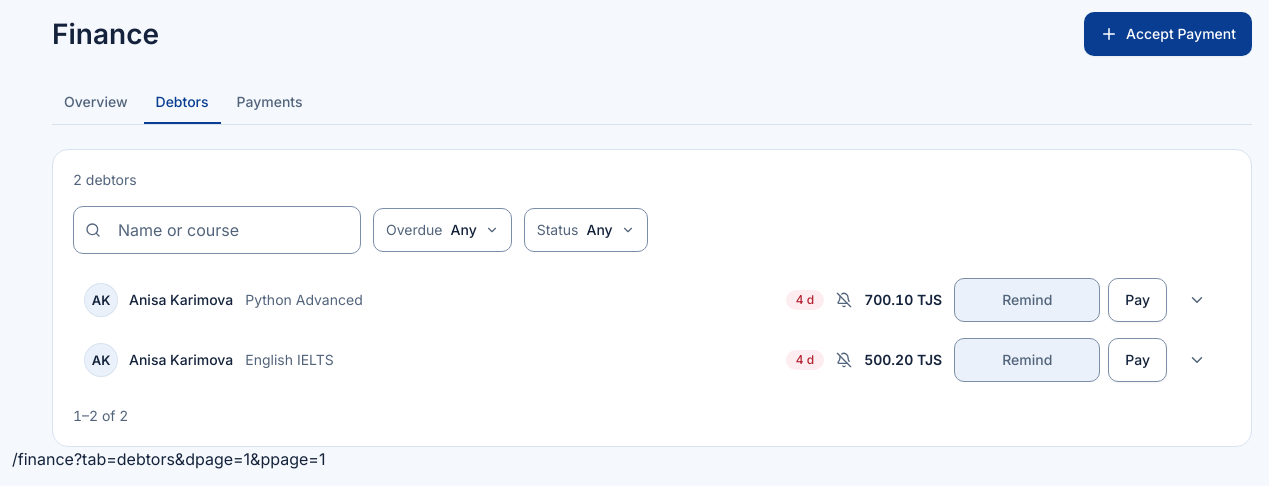
Test case: Finance navigation › changes tabs immediately, supports arrow keys and restores each tab's own page
The image size is (1269, 486).
Click the tab "Payments" at (270, 102), box [225, 80, 315, 124]
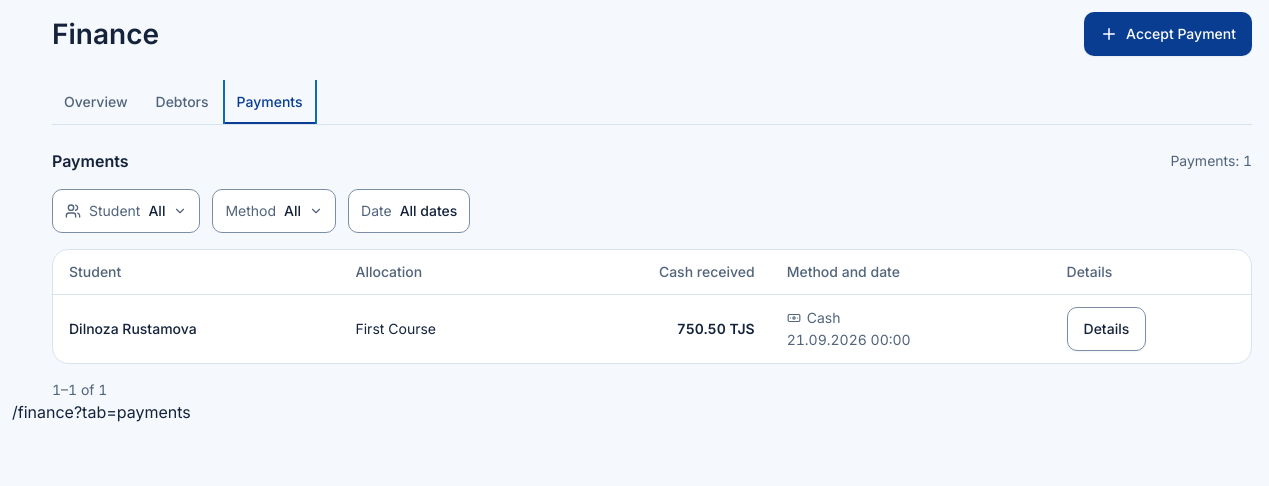
Result: the text with test id "location" reads "/finance?tab=payments" at [12, 402, 191, 422]
Press Arrowleft
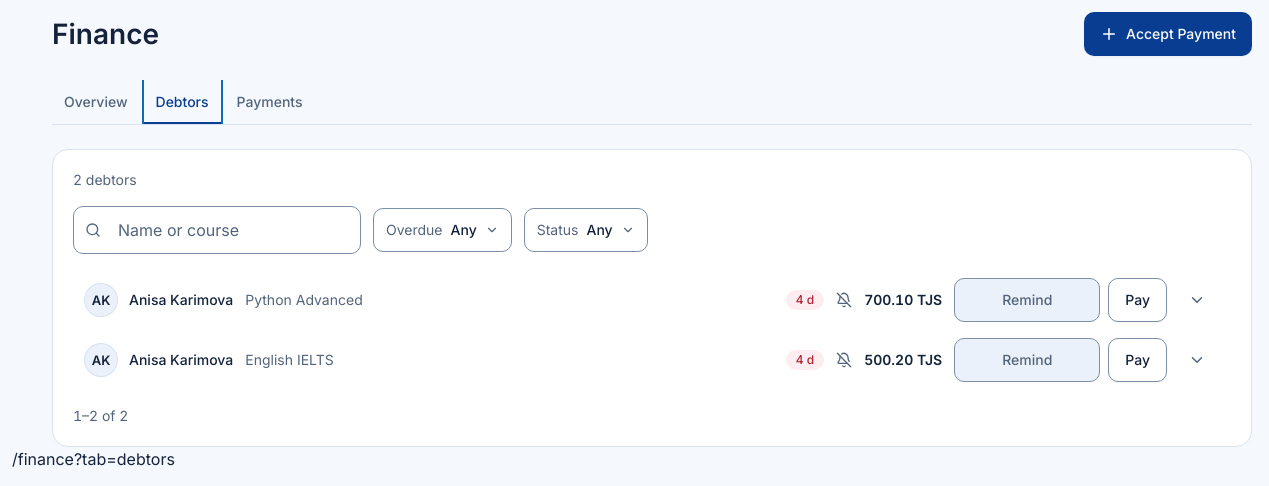
Result: the text with test id "location" reads "/finance?tab=debtors" at [12, 449, 175, 469]
